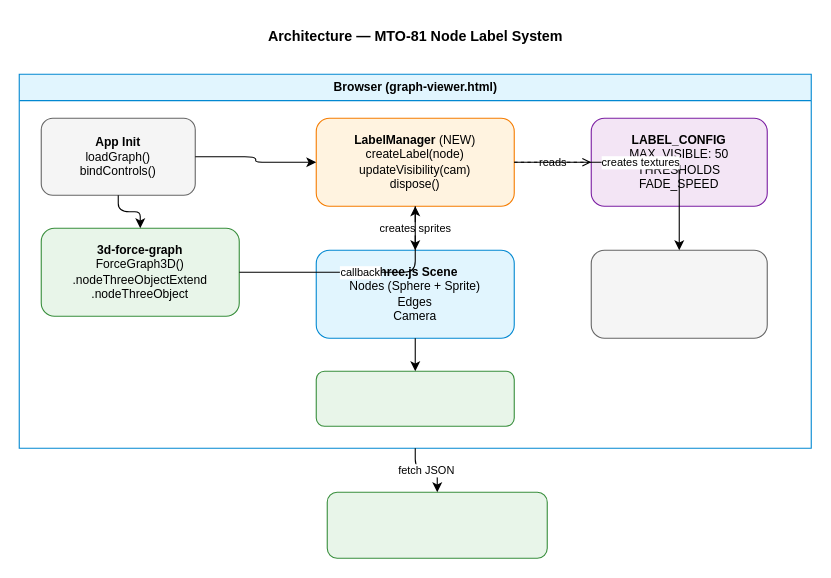
The diagram is 831 pixels wide and 578 high, and some of its shapes have lost their labels. Here are the shapes that lost their labels. From the top down, the box of each, then its label:
(590, 249, 767, 338): Canvas 2D API Text rendering 256x128 textures
(315, 370, 514, 426): WebGL Renderer GPU rendering Sprite billboarding
(326, 491, 547, 558): Graph API GET /sync/graph/{project}
